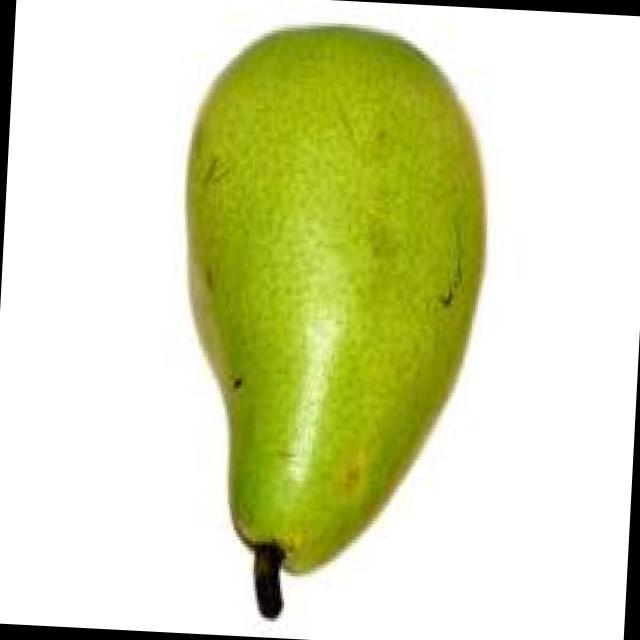Pear: (90, 0, 528, 640)
